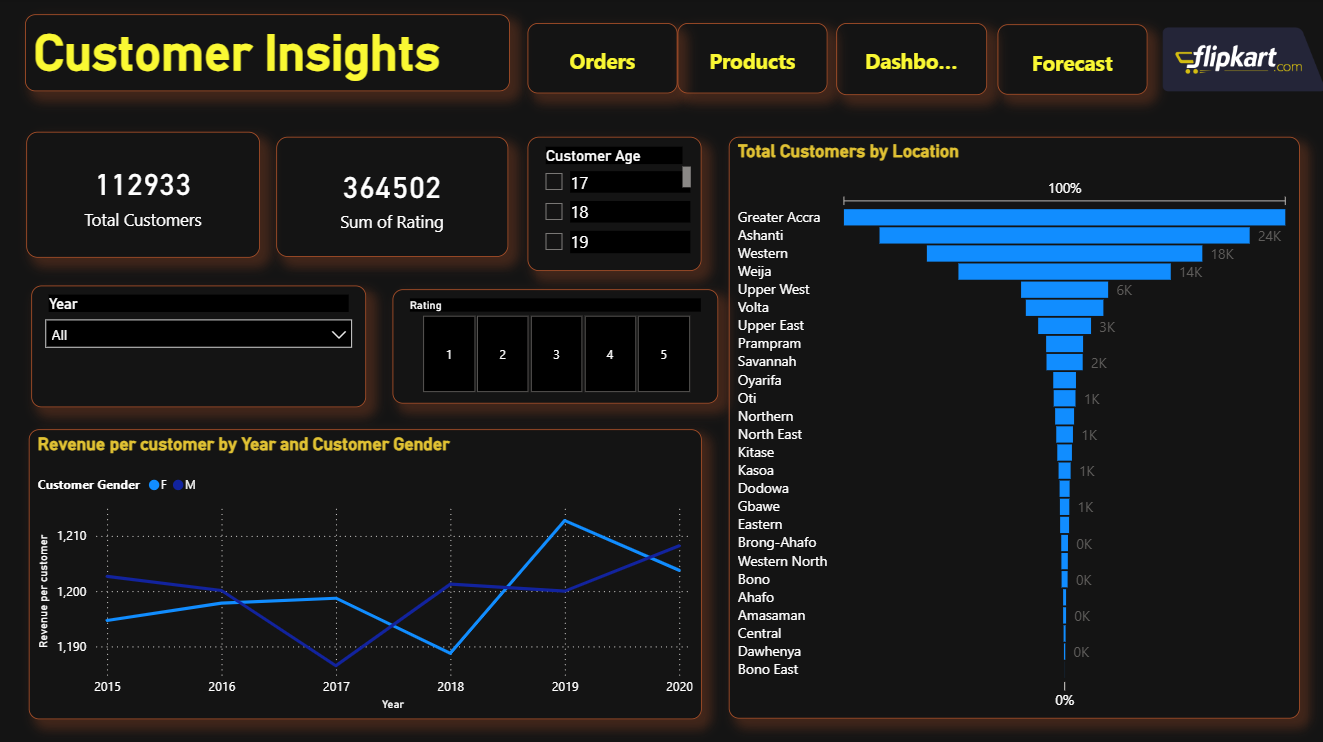

This screenshot's page, from the dashboard's own definition file:
{"tool":"powerbi","page":{"name":"Customers","canvas":[1280,720],"ordinal":4},"visuals":[{"type":"textbox","box":[24.3,15.7,468.1,74.4],"z":0},{"type":"card","fields":{"Values":["All Measure.Total Customers"]},"box":[24.9,129.6,226,121.3],"z":1000},{"type":"card","fields":{"Values":["Sum(Data.Rating)"]},"box":[267.2,134.4,224,116.2],"z":2000},{"type":"slicer","fields":{"Values":["Calendar.Year"]},"box":[30.6,277.2,323.1,117.3],"z":3000},{"type":"slicer","fields":{"Values":["Data.Customer Age"]},"box":[509.5,134.4,167.6,129.4],"z":4000},{"type":"slicer","fields":{"Values":["Data.Rating"]},"box":[379.2,280.6,314.6,110.5],"z":5000},{"type":"lineChart","fields":{"Category":["Calendar.Year"],"Series":["Data.Customer Gender"],"Y":["All Measure.Revenue per customer"]},"box":[28.2,415.7,650,280.1],"z":6000},{"type":"funnel","fields":{"Category":["Data.Location"],"Y":["All Measure.Total Customers"]},"box":[702.8,133.9,551.3,561.9],"z":7000},{"type":"actionButton","box":[509.1,24.1,144.6,68.3],"z":8000},{"type":"actionButton","box":[653.9,24.1,144.6,68.3],"z":9000},{"type":"actionButton","box":[807.1,24.1,145.4,69.5],"z":10000},{"type":"actionButton","box":[962.7,25.3,144.6,68.3],"z":11000},{"type":"image","box":[1120.8,10.9,158.9,96.7],"z":12000}]}

Visuals, with their boxes in screenshot pixels (x1, y1, x2, y2), scaled from the page's 1280x720 canvas onto the 1323x742 screenshot:
textbox: locate(25, 16, 509, 93)
card - All Measure.Total Customers: locate(26, 134, 259, 259)
card - Sum(Data.Rating): locate(276, 139, 508, 258)
slicer - Calendar.Year: locate(32, 286, 366, 407)
slicer - Data.Customer Age: locate(527, 139, 700, 272)
slicer - Data.Rating: locate(392, 289, 717, 403)
lineChart - Calendar.Year x Data.Customer Gender: locate(29, 428, 701, 717)
funnel - Data.Location x All Measure.Total Customers: locate(726, 138, 1296, 717)
actionButton: locate(526, 25, 676, 95)
actionButton: locate(676, 25, 825, 95)
actionButton: locate(834, 25, 984, 96)
actionButton: locate(995, 26, 1144, 96)
image: locate(1158, 11, 1322, 111)
